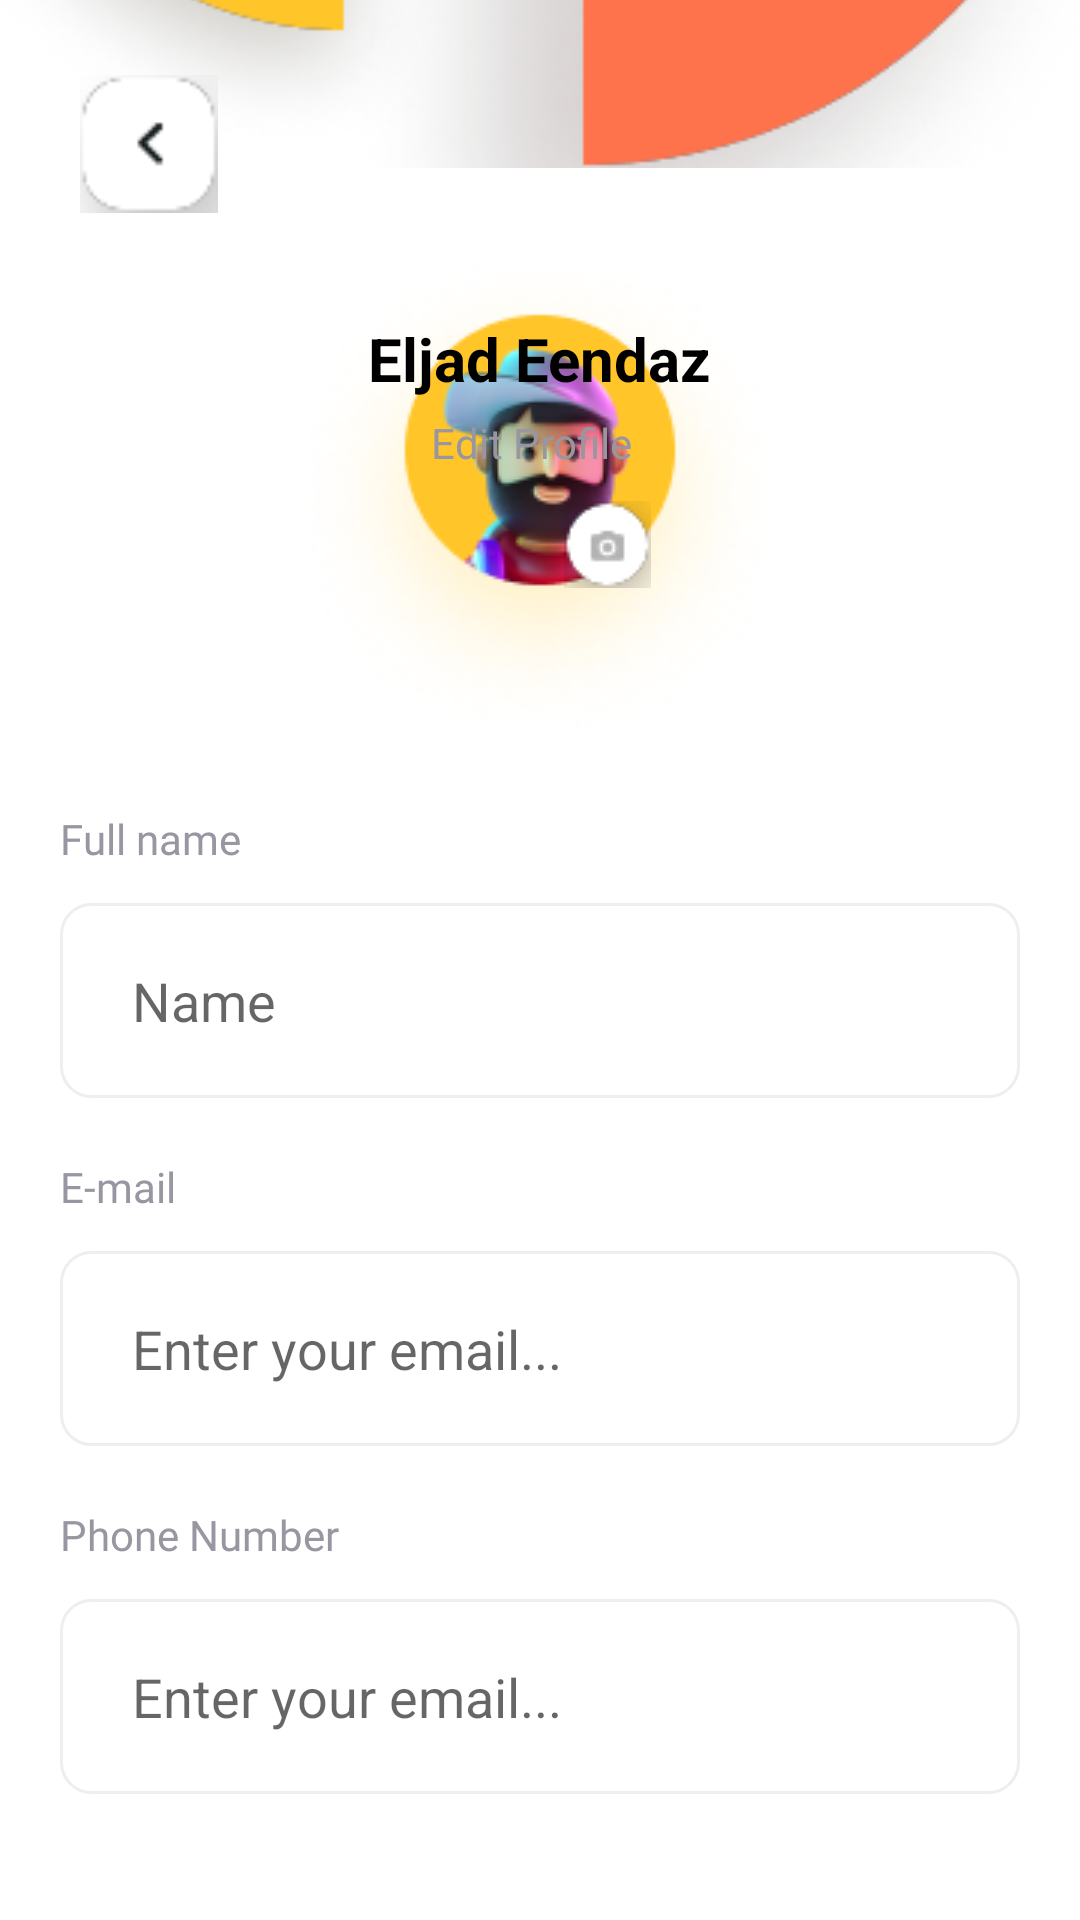

Icon click points for this 1080*1920 phone screenshot, format point (x, y):
back: point (150, 145)
